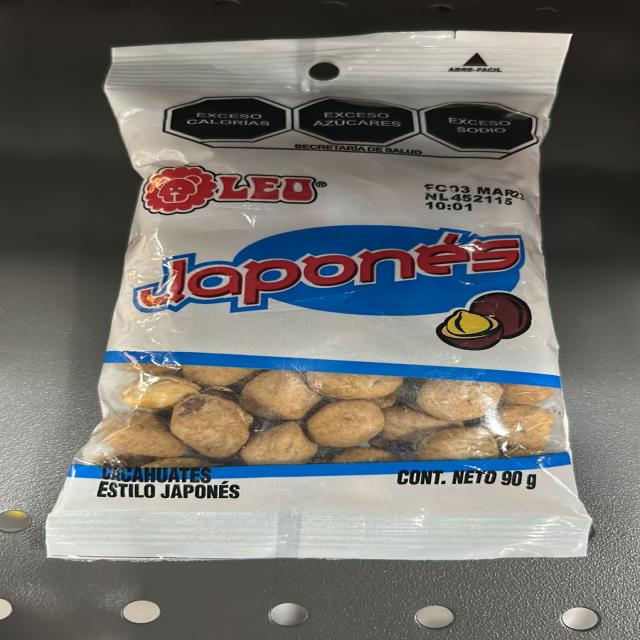leoCacahuates: (123, 54, 550, 576)
